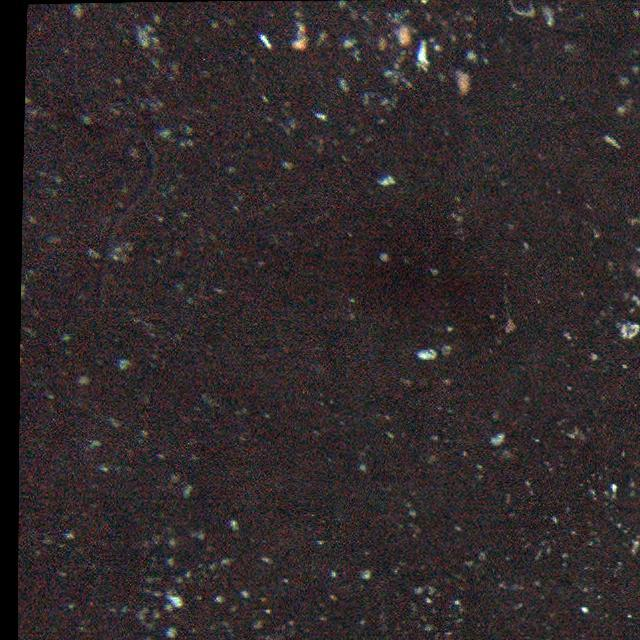eel: (68, 22, 158, 307)
